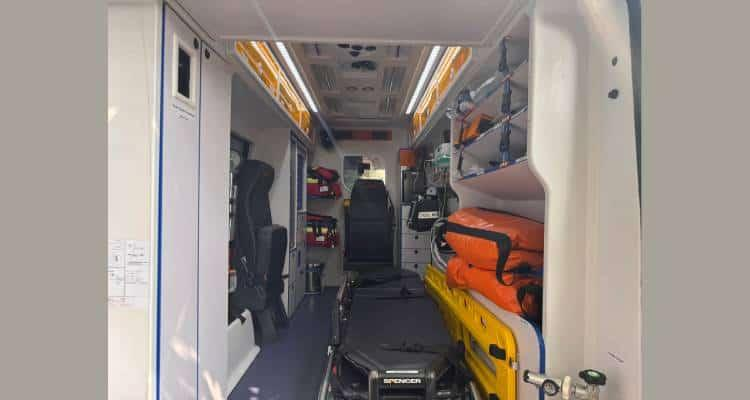ambulance: (165, 25, 646, 376)
